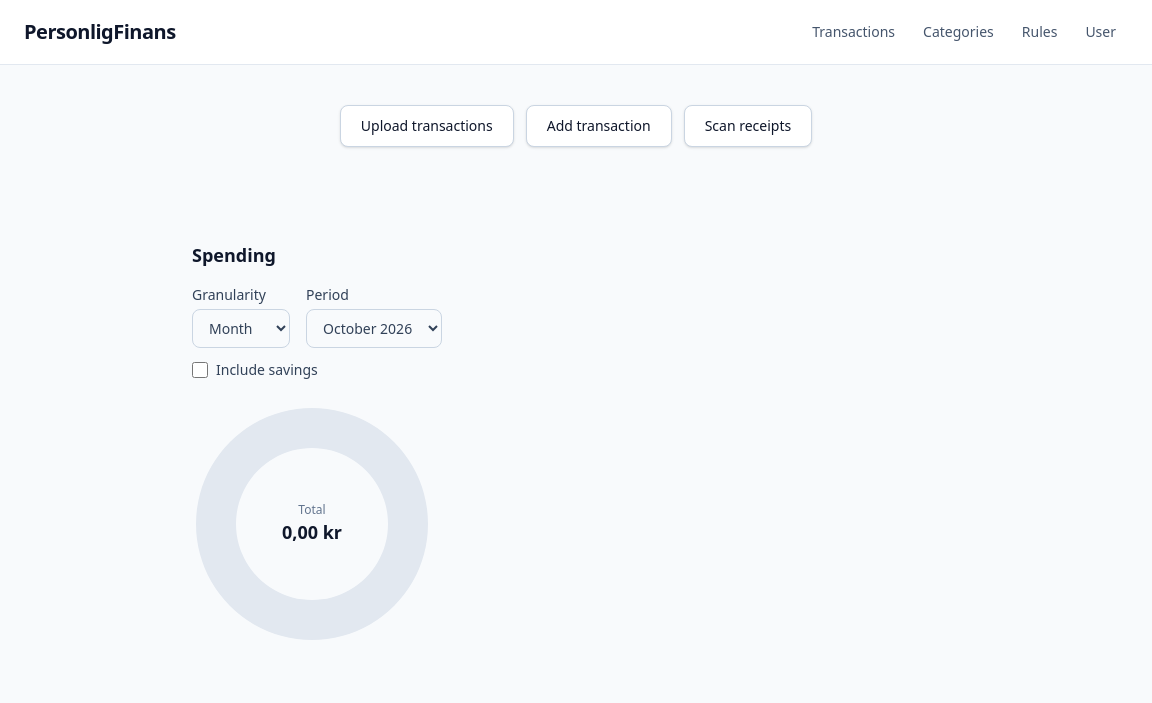
Test: App › keeps Save disabled until description, amount and category are filled in
The width and height of the screenshot is (1152, 703).
Check: the navigation bar is shown, box [800,16,1128,48]
Click the button "Add transaction" at coordinates (599, 126), box [526,105,672,147]
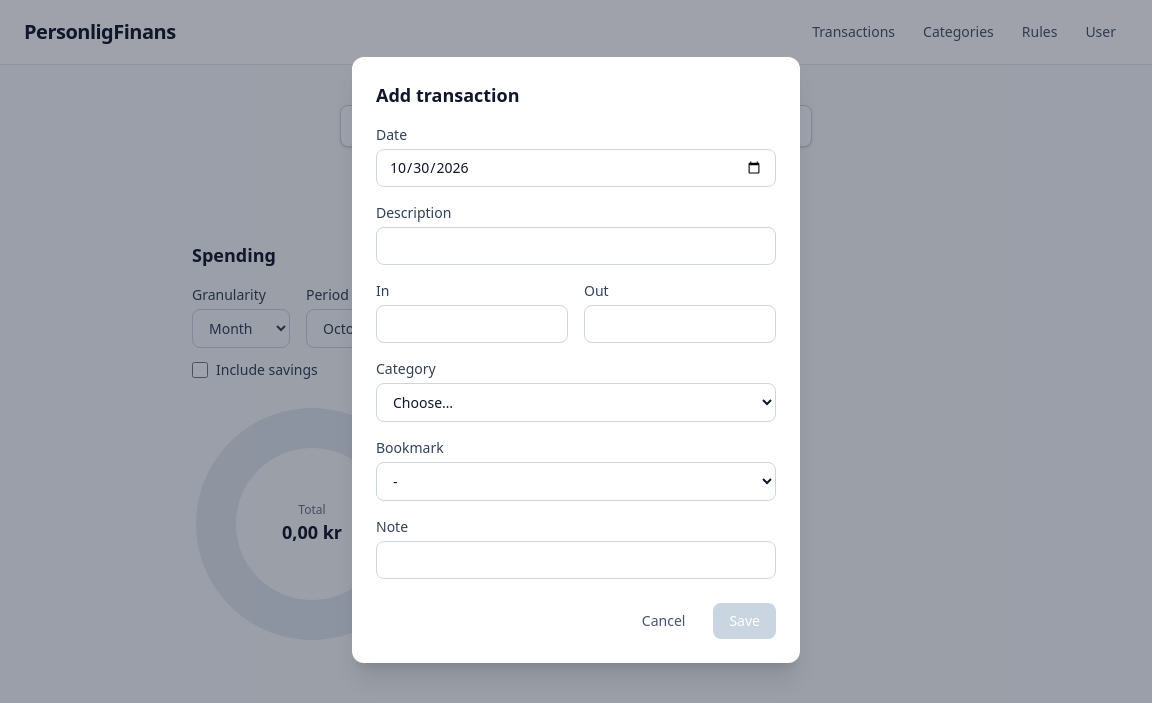
Check: the button "Save" is disabled, box [713,603,776,639]
Type "Rema 1000" into the field labelled "Description" at coordinates (576, 246), box [376,227,776,265]
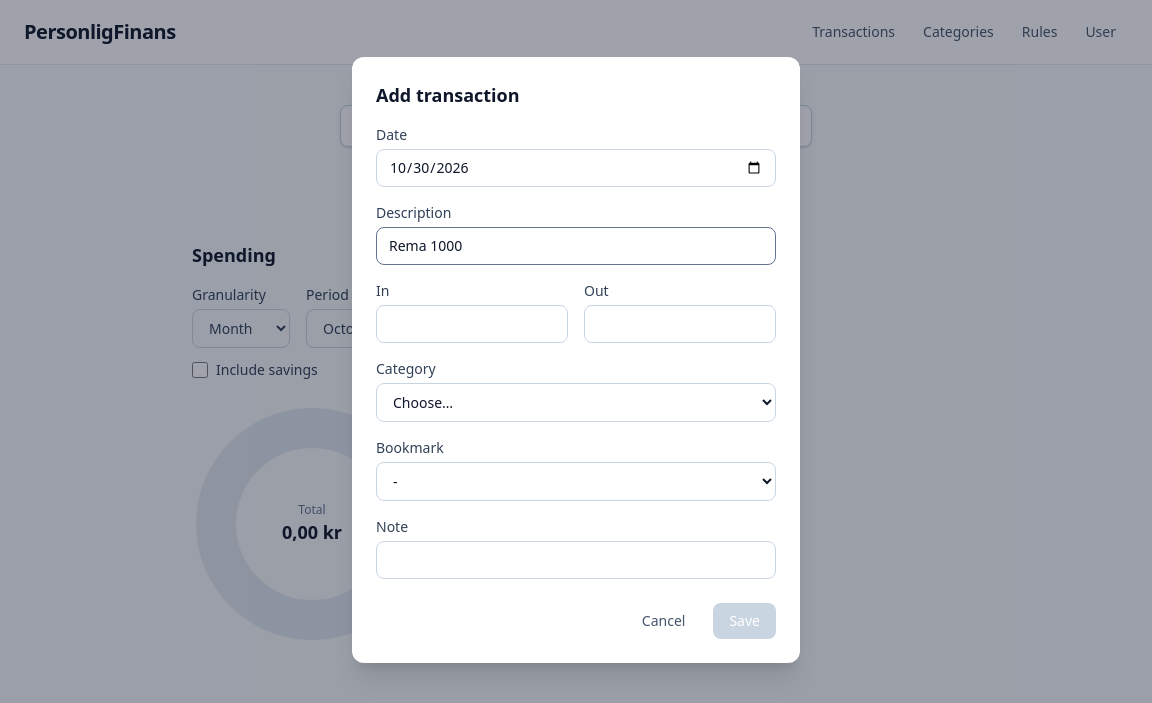
Type "249.90" into the number field labelled "Out" at coordinates (680, 324), box [584,305,776,343]
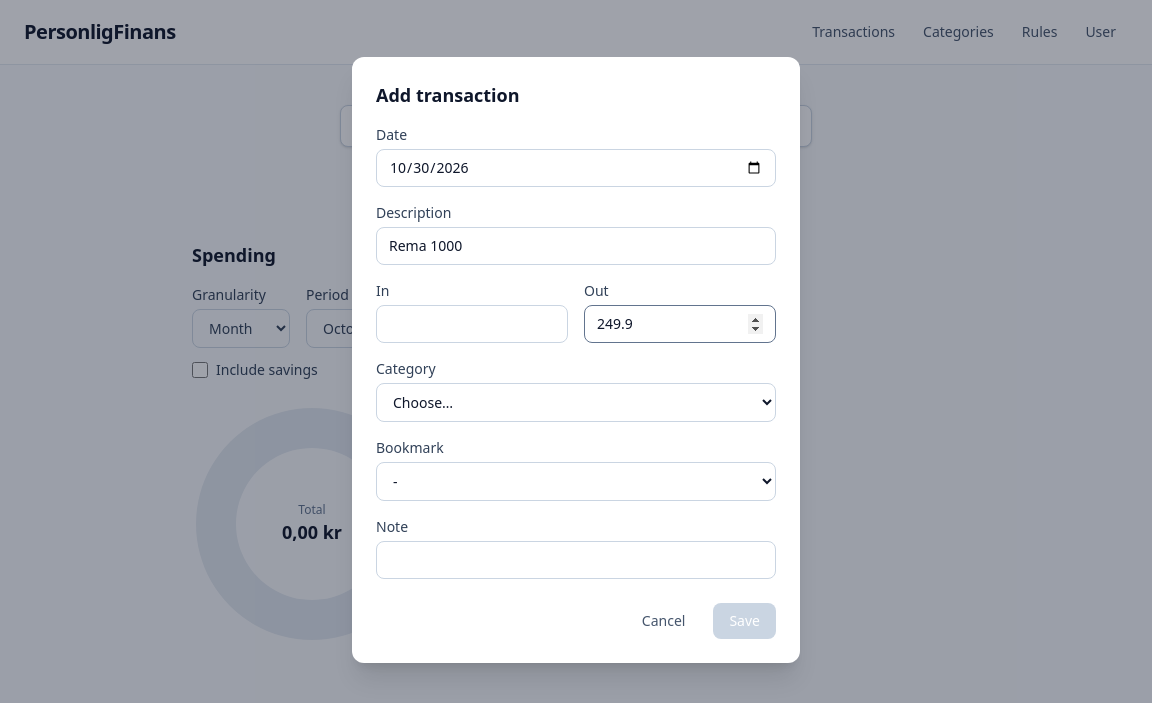
Check: the button "Save" is disabled, box [713,603,776,639]
Select "Groceries" in the dropdown labelled "Category" at coordinates (576, 402), box [376,383,776,422]
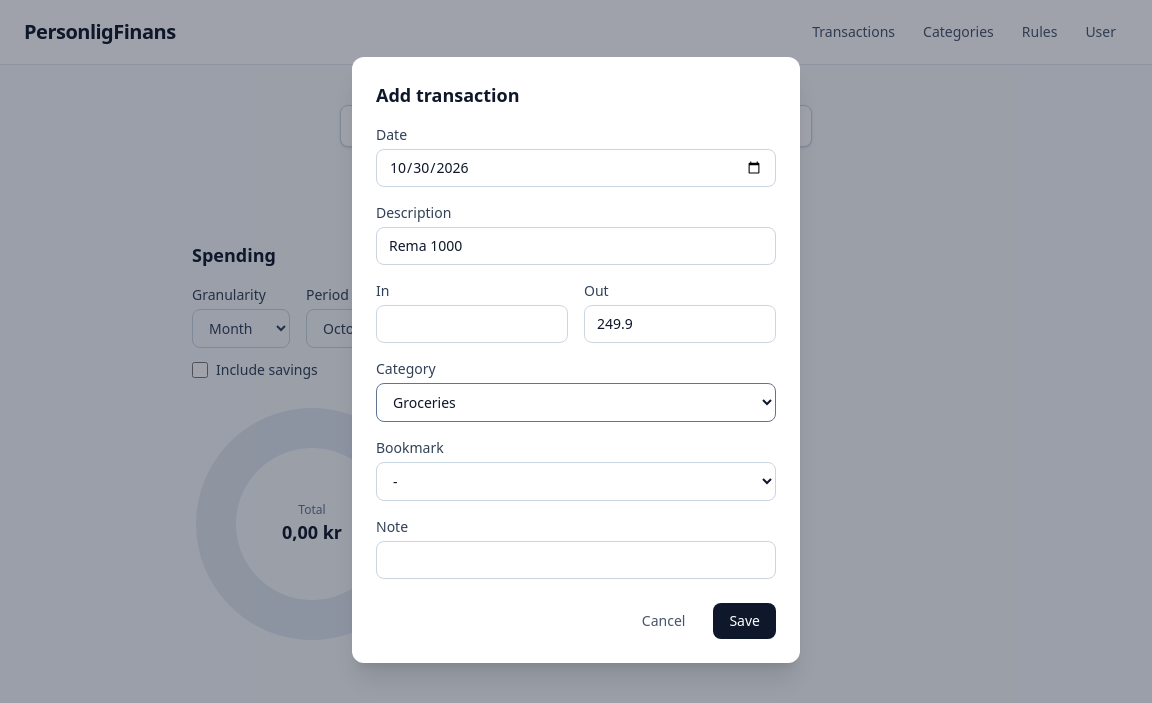
Check: the button "Save" is enabled, box [713,603,776,639]
